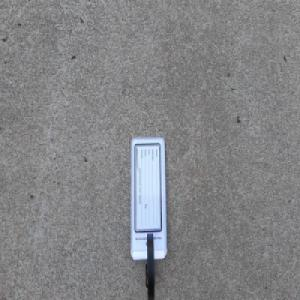LuggageTag: (129, 134, 168, 300)
